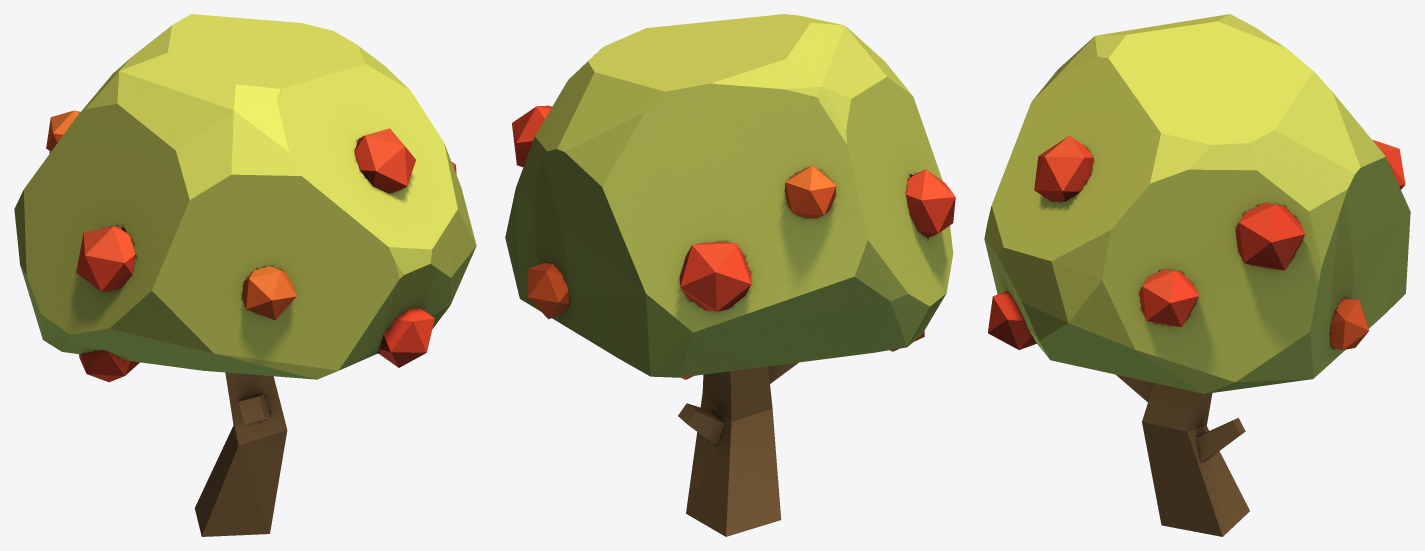
File: PUSHILIN_apple_tree.obj
The picture shows the model from 3 angles, left to right: view 1: azimuth 30°, elevation 25°; view 2: azimuth 150°, elevation 25°; view 3: azimuth 270°, elevation 25°; orthographic projection. The views are drawn at different scales.
Visible parts, largest first — view 1: apple_tree; view 2: apple_tree; view 3: apple_tree.
Part boxes in pixels (x1,y1,x2,y2): apple_tree: [14, 14, 476, 536]; apple_tree: [505, 14, 955, 536]; apple_tree: [984, 14, 1410, 536].
Size of the model in its own units: 1.59 by 1.81 by 1.5.
Materials: 1 (1 with a texture image).
